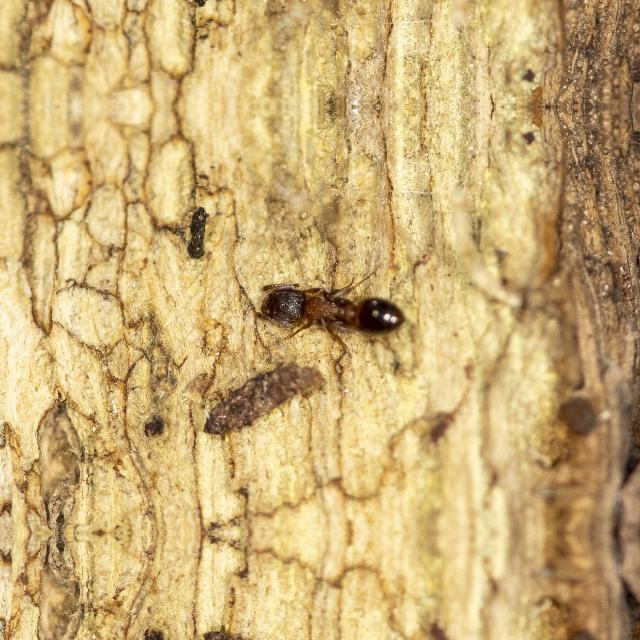Temnothorax: (246, 250, 442, 372)
